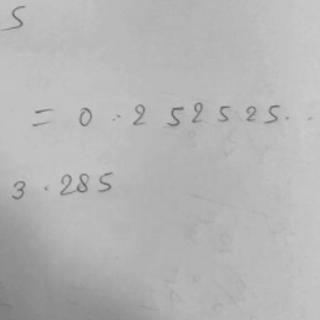.: (40, 181, 53, 196)
0: (73, 106, 98, 128)
2: (130, 102, 151, 126), (189, 100, 206, 125), (59, 172, 75, 198), (244, 106, 260, 121)
3: (8, 178, 29, 201)
5: (96, 169, 111, 194)
8: (73, 173, 93, 194)
